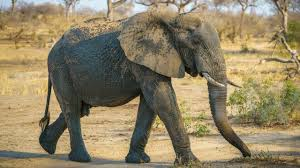Elephant: (32, 10, 259, 167)
